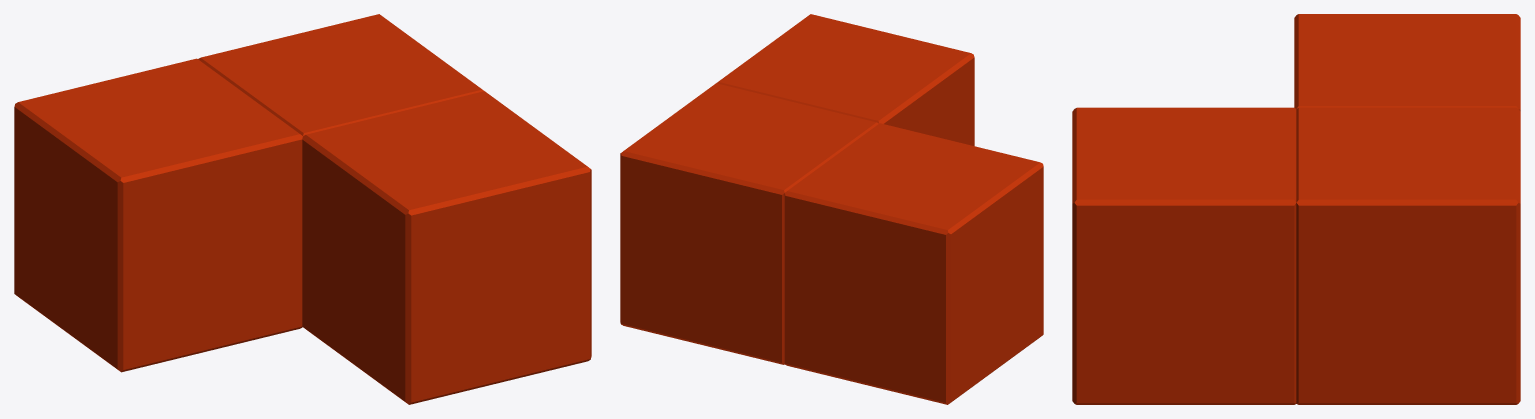
The model's file is PieceOrange.fbx.
3 renders of one model, left to right at view 1: azimuth 30°, elevation 25°; view 2: azimuth 150°, elevation 25°; view 3: azimuth 270°, elevation 25°, orthographic. The views are drawn at different scales.
Parts seen in each view (by area): view 1: PieceOrange001; view 2: PieceOrange001; view 3: PieceOrange001.
Boxes of the visible parts, <box> form: PieceOrange001: <box>14,14,591,404</box>; PieceOrange001: <box>620,14,1043,404</box>; PieceOrange001: <box>1072,14,1520,404</box>.
Size of the model in its own units: 18.23 by 18.23 by 9.21.
